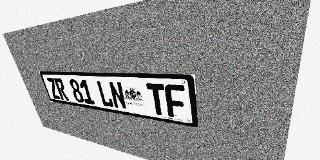1: (78, 79, 95, 105)
8: (68, 79, 85, 103)
F: (164, 84, 187, 119)
L: (96, 80, 114, 108)
N: (108, 81, 127, 110)
R: (53, 78, 69, 101)
T: (146, 83, 168, 116)
Z: (46, 78, 61, 99)
